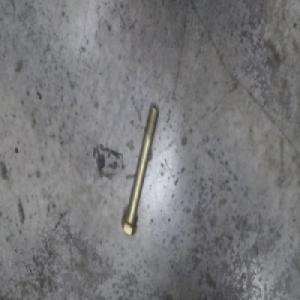Bolt: (121, 97, 159, 238)
